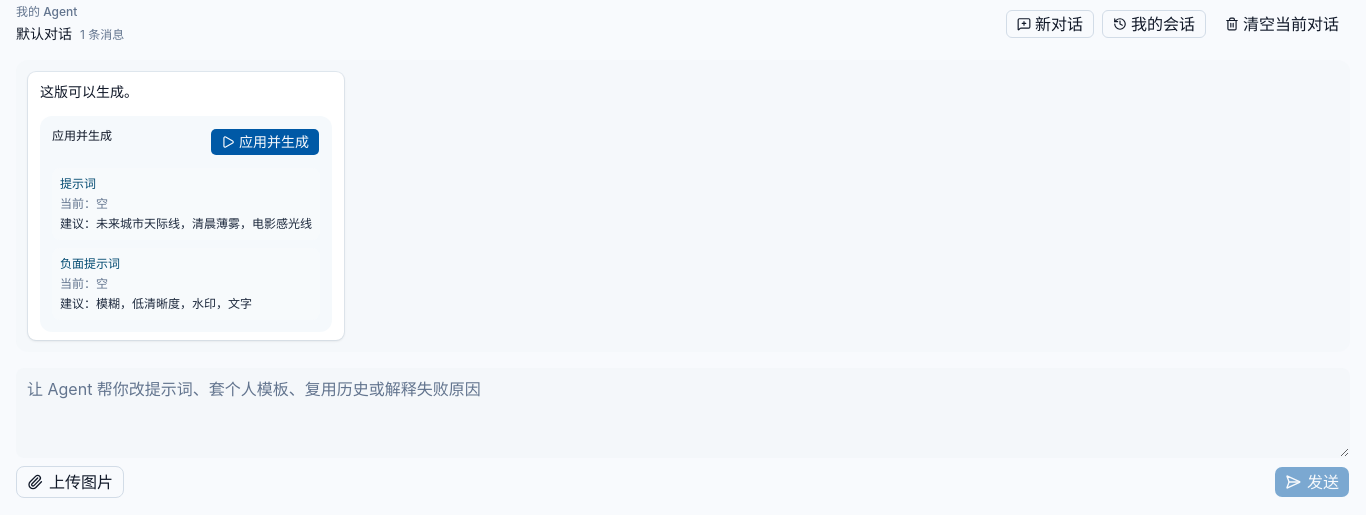
Scenario: AgentChatPanel › applies generate action patches and submits the existing generation mutation
Click the button "应用并生成": coordinates (265, 142) [210, 128, 320, 156]
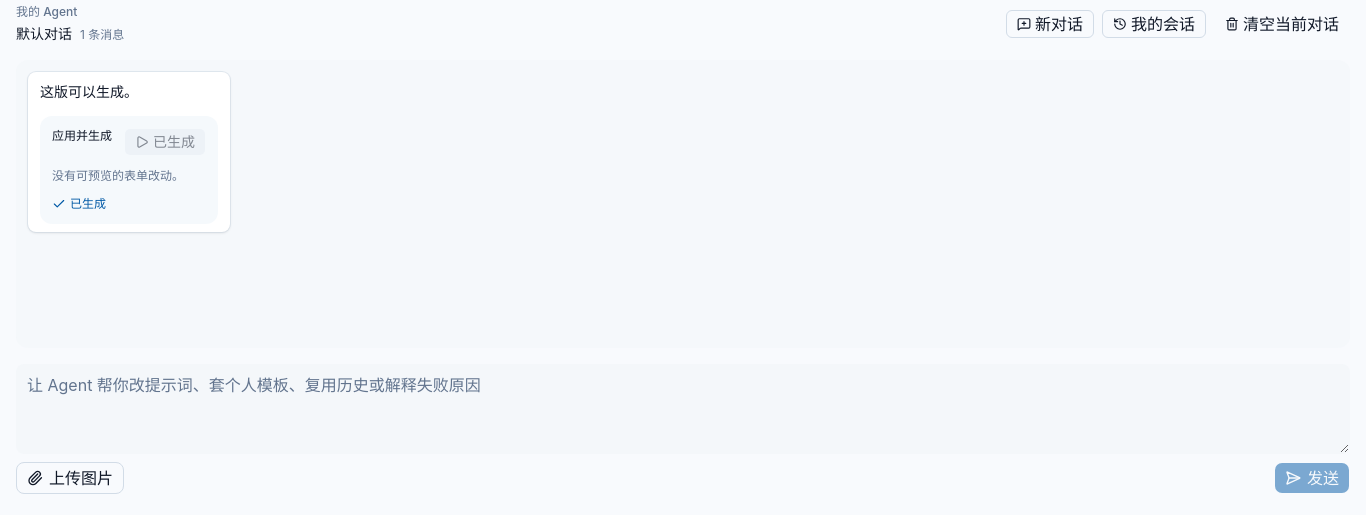
Expected: the button "已生成" is shown, [124, 128, 206, 156]
